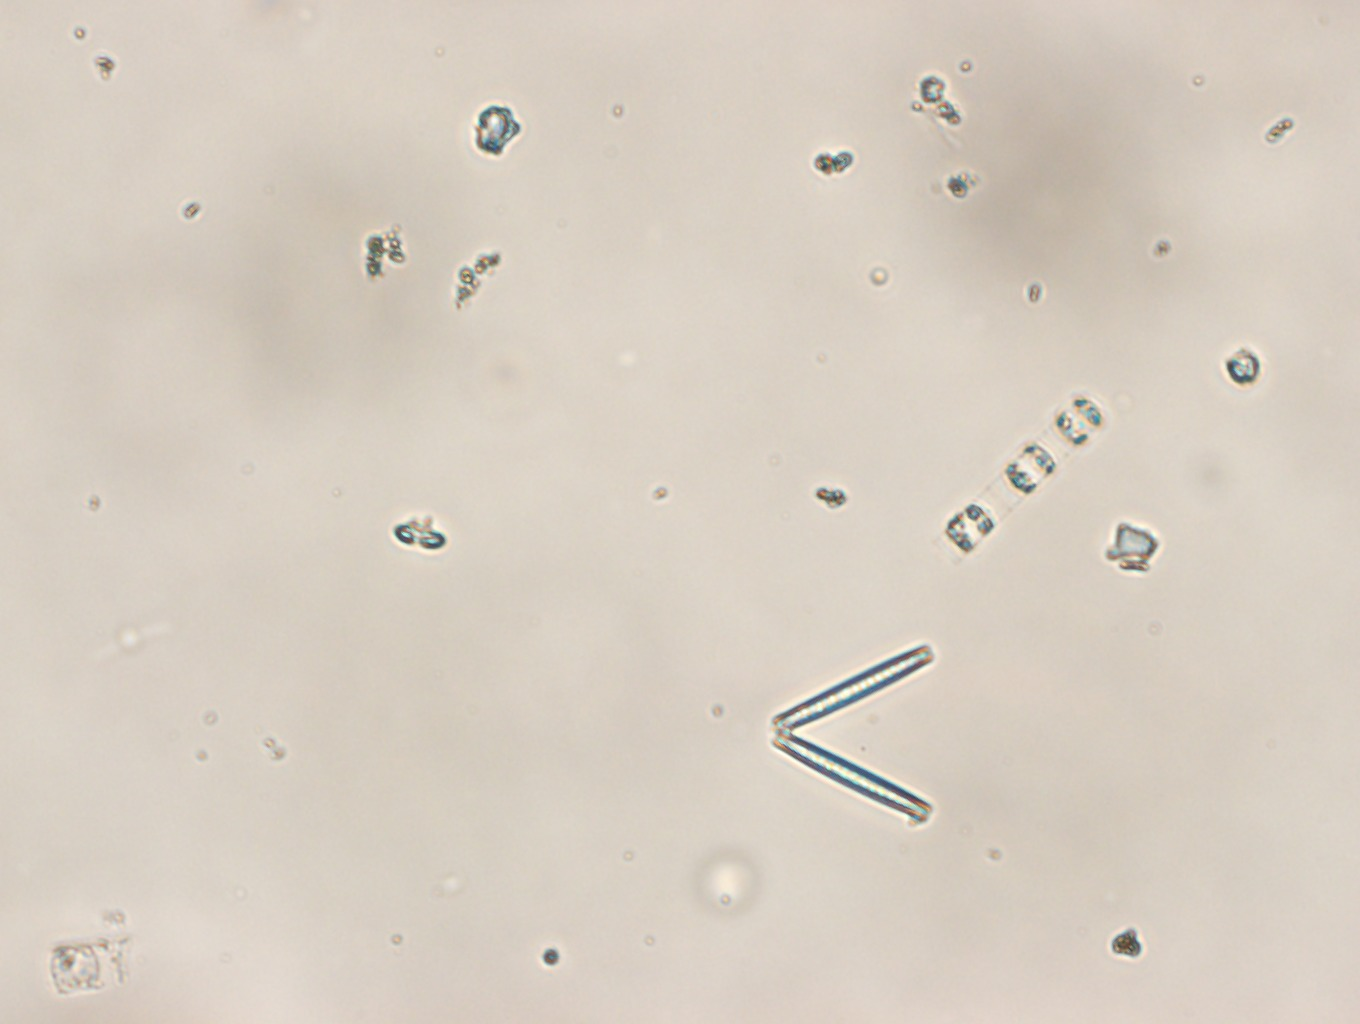skeletonema: (936, 383, 1110, 566)
thalassionema nitzschioides: (770, 641, 936, 828)
